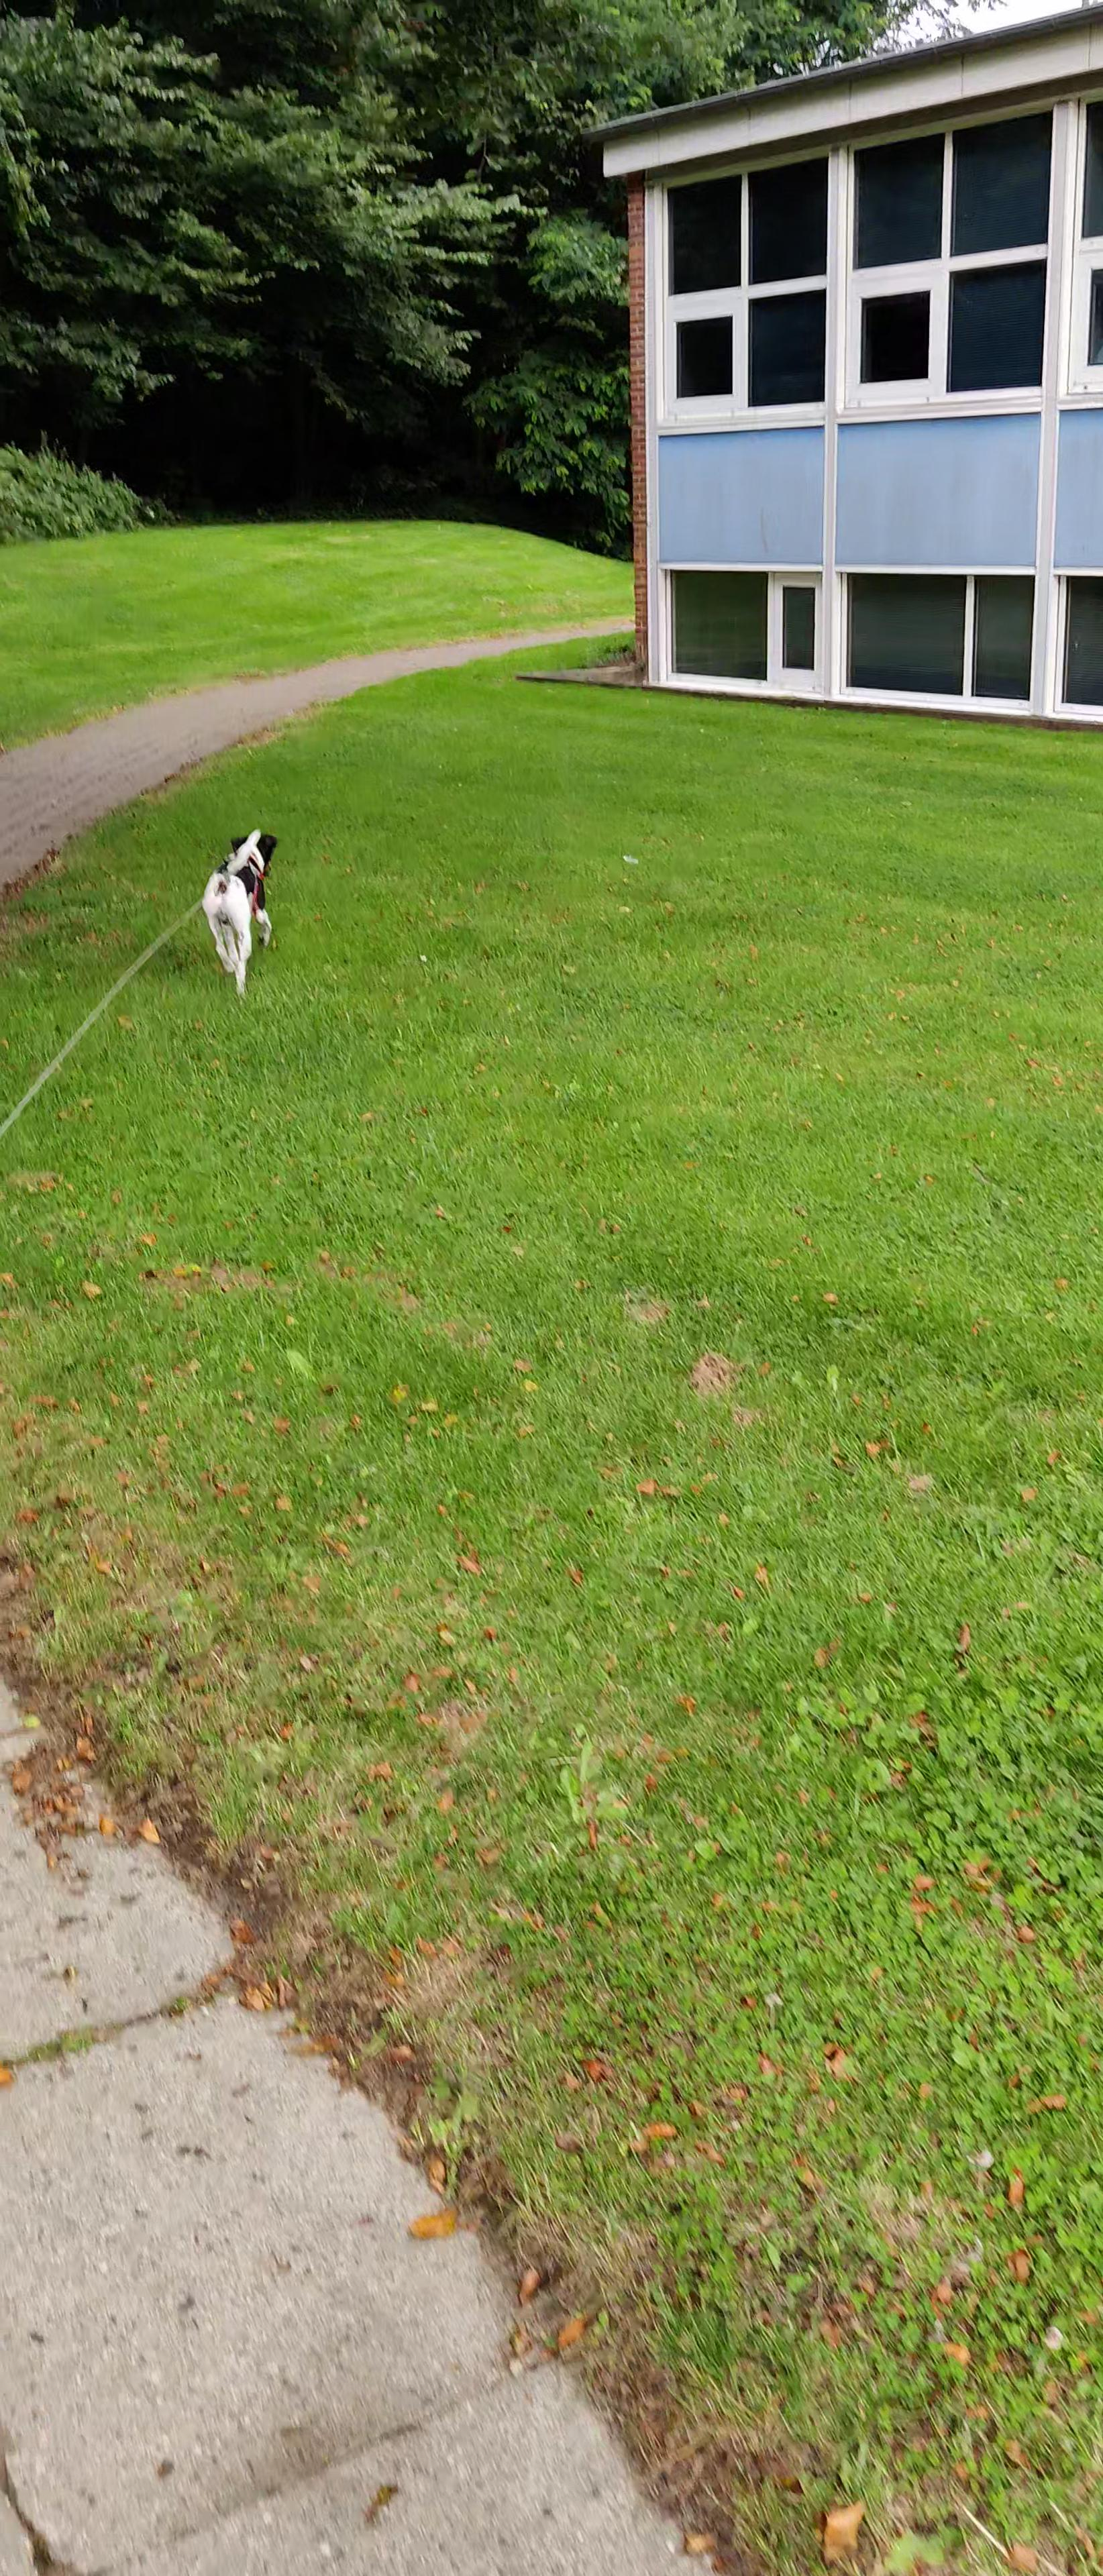Dog: (187, 821, 294, 1009)
